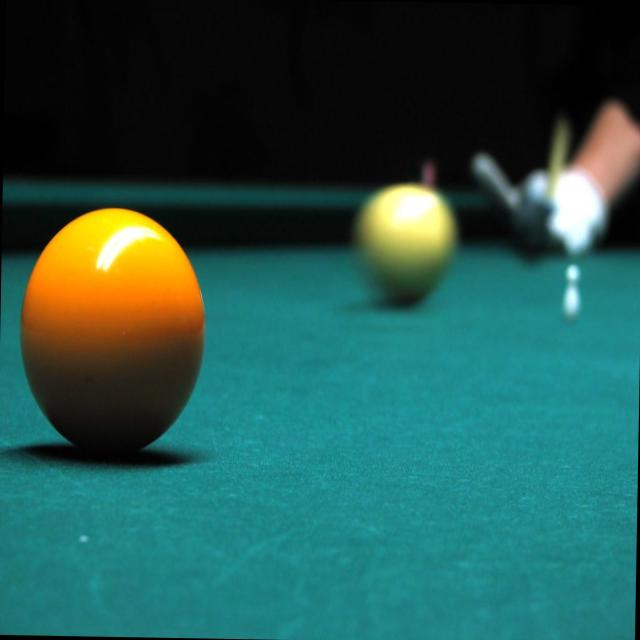Ball: (19, 206, 208, 456), (356, 183, 457, 302)
